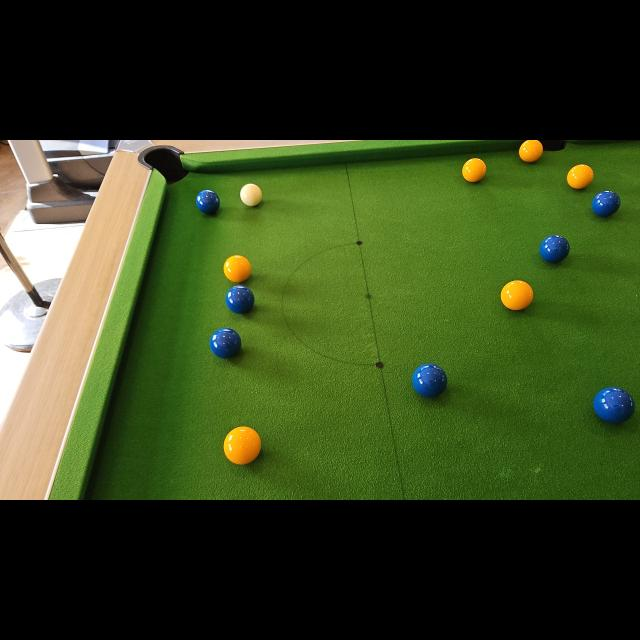Ball: (223, 426, 261, 466), (593, 388, 635, 424), (412, 362, 448, 398), (501, 280, 534, 312), (208, 328, 242, 358), (223, 254, 253, 284), (540, 235, 570, 263), (226, 286, 254, 314), (592, 191, 620, 219), (567, 164, 593, 190), (518, 140, 544, 164), (197, 190, 220, 214), (462, 158, 484, 182), (240, 184, 262, 206)
